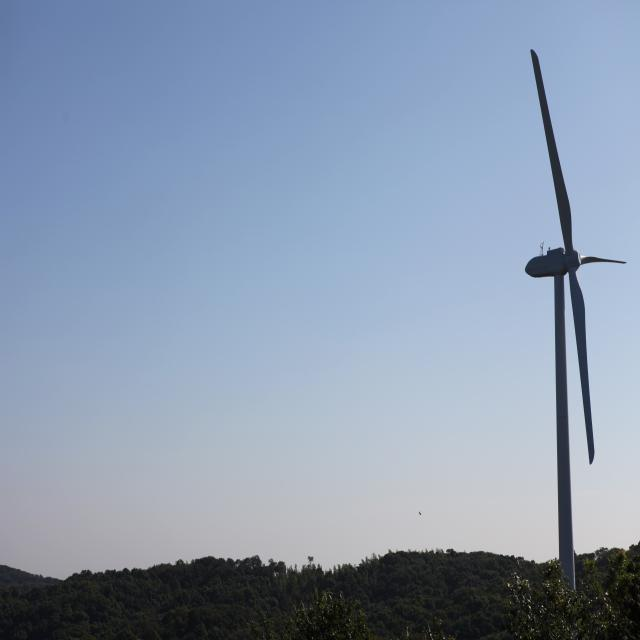bird: (418, 511, 422, 516)
